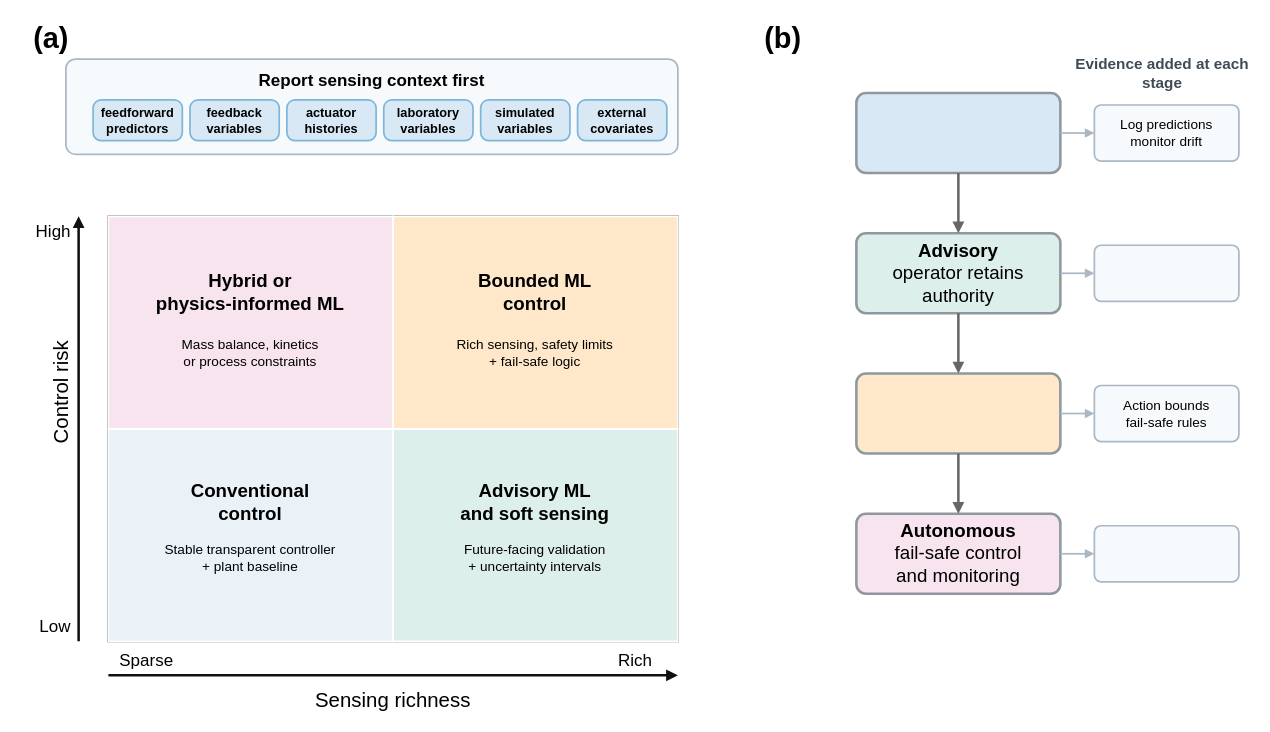
Image size: 1270x732. Some labels were removed from this diagram. Each missing label, with the centre of its shape:
Audited constraints compliance monitoring: point 1166,553
Future split + UQ operator review: point 1166,273
Shadow parallel operation no influence: point 958,132
Supervised bounded actions with oversight: point 958,413
